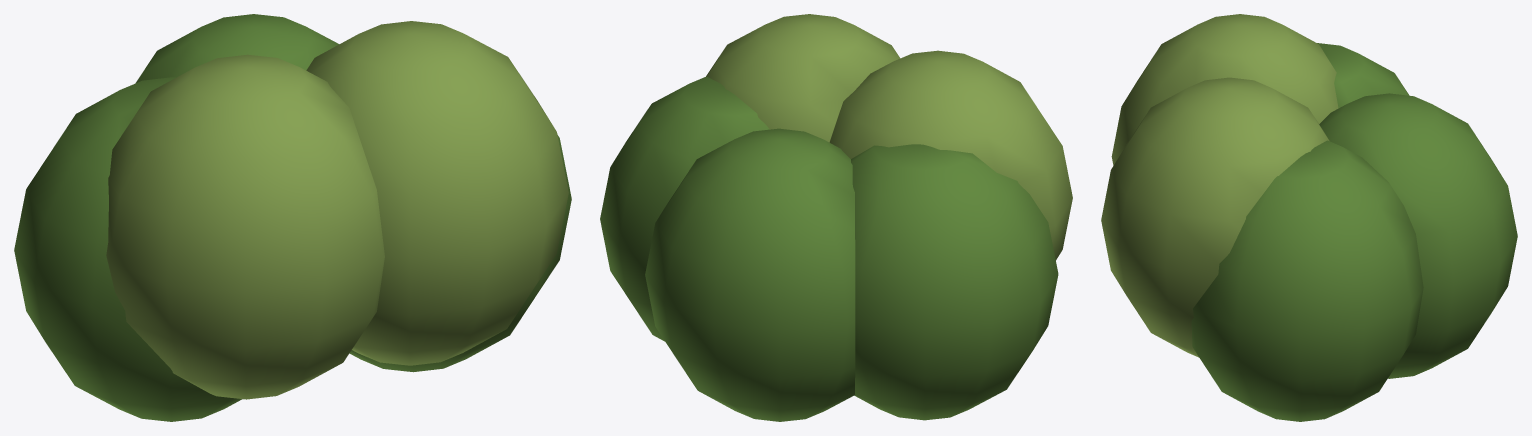
Rendered from bush.glb.
3 views of the same model, side by side, from view 1: azimuth 30°, elevation 25°; view 2: azimuth 150°, elevation 25°; view 3: azimuth 270°, elevation 25° (orthographic). The views are drawn at different scales.
Parts seen in each view (by area): view 1: bush; view 2: bush; view 3: bush.
Part boxes in pixels (x1,y1,x2,y2): bush: (14,14,571,421); bush: (600,14,1072,421); bush: (1101,14,1517,421).
Size of the model in its own units: 0.8669 by 0.6 by 0.7464.
